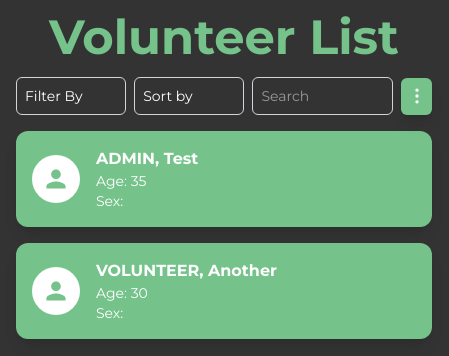
Scenario: Volunteer List Page › filters by non-admin volunteers
This screenshot has width=449, height=356.
Expected: the text "ADMIN, Test" is shown, [96,149,198,168]
Select "Volunteers" in the 1st dropdown showing "Filter By" at (71, 96), box [16,77,126,115]
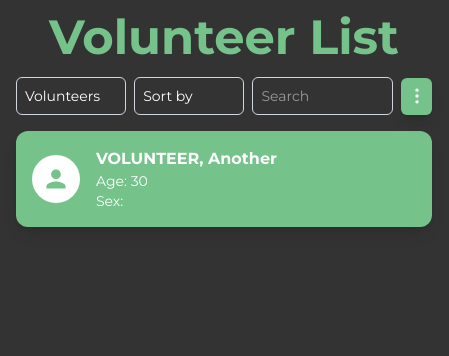
Expected: the text "VOLUNTEER, Another" is shown, [96,149,277,168]
Expected: the link "ADMIN, Test" is gone
